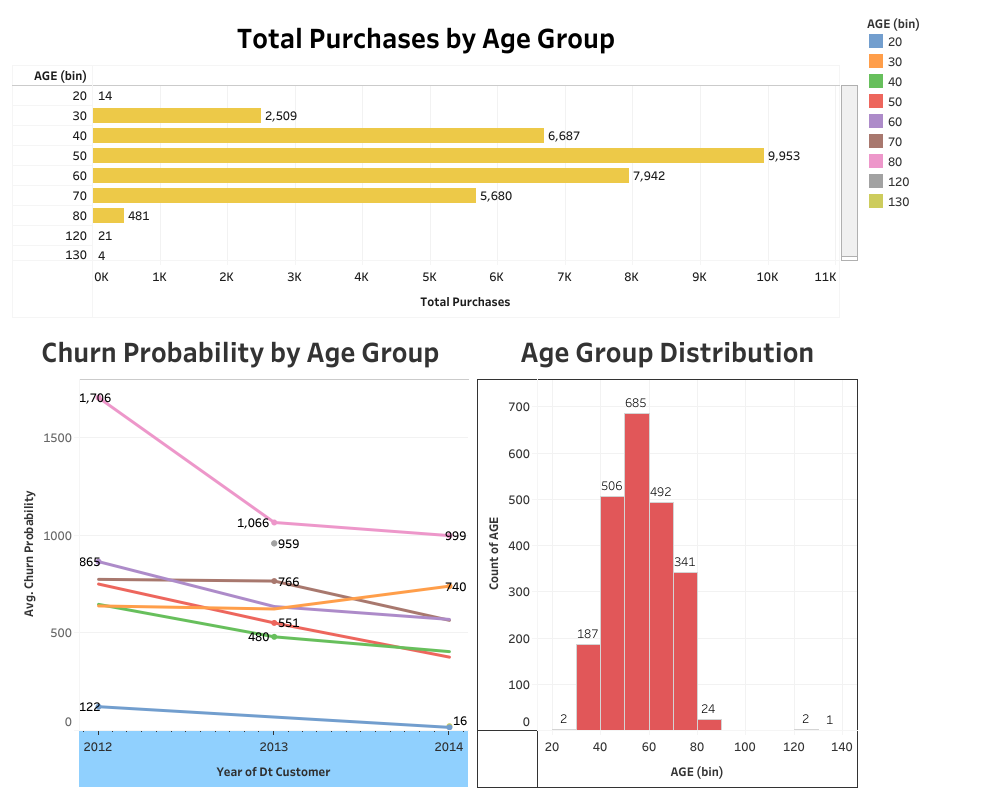

The page's visual inventory and layout, read from the dashboard file:
{"tool":"tableau","page":{"name":"Age Demographics & Churn Insights","canvas":[1000,800],"ordinal":0},"visuals":[{"type":"worksheet","title":"Sheet 3","mark":"Automatic","rows":["AGE (bin)"],"cols":["TOTAL_PURCHASES"],"box":[8,8,854,314]},{"type":"legend","title":"Sheet 7","param":"[federated.0zwvmky1m0csmx10w9z831ql300v].[none:AGE (bin):ok]","box":[862,8,130,207]},{"type":"worksheet","title":"Sheet 7","mark":"Automatic","rows":["CHURN_PROBABILITY"],"cols":["DT_CUSTOMER"],"box":[8,322,465.3,470]},{"type":"worksheet","title":"Sheet 2","mark":"Automatic","rows":["AGE"],"cols":["AGE (bin)"],"box":[473.3,322,388.7,470]}]}

Visuals, with their boxes in screenshot pixels (x1, y1, x2, y2), scaled from the page's 1000x800 canvas onto the 999x799 screenshot:
"Sheet 3" worksheet: [left=8, top=8, right=861, bottom=322]
"Sheet 7" legend: [left=861, top=8, right=991, bottom=215]
"Sheet 7" worksheet: [left=8, top=322, right=473, bottom=791]
"Sheet 2" worksheet: [left=473, top=322, right=861, bottom=791]
